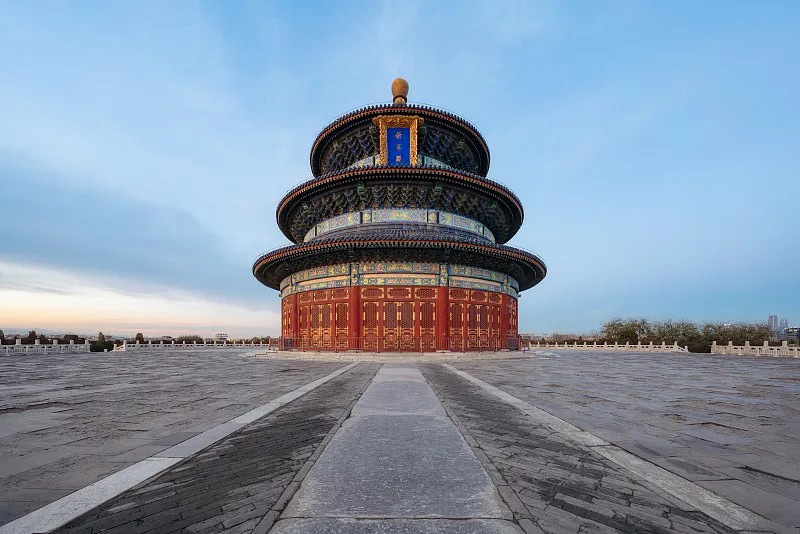Heaven: (252, 77, 547, 352)
